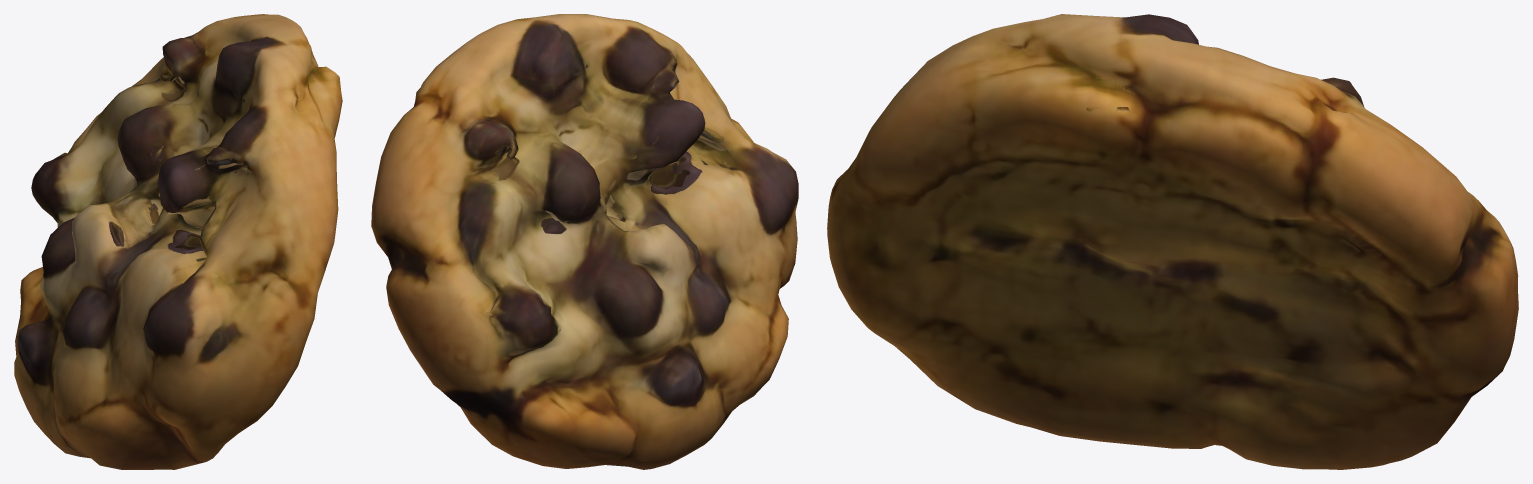
File: cookie 01.glb
The picture shows the model from 3 angles, left to right: view 1: azimuth 30°, elevation 25°; view 2: azimuth 150°, elevation 25°; view 3: azimuth 270°, elevation 25°; orthographic projection. The views are drawn at different scales.
Parts seen in each view (by area): view 1: mesh; view 2: mesh; view 3: mesh.
Part boxes in pixels (x1,y1,x2,y2): mesh: (14,14,342,469); mesh: (371,14,798,469); mesh: (827,14,1518,469).
Bounding box in the file's own units: 0.6626 × 0.8321 × 0.9994.
1 material, 1 textured.
